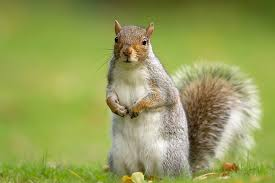squirrel: (105, 19, 258, 175)
